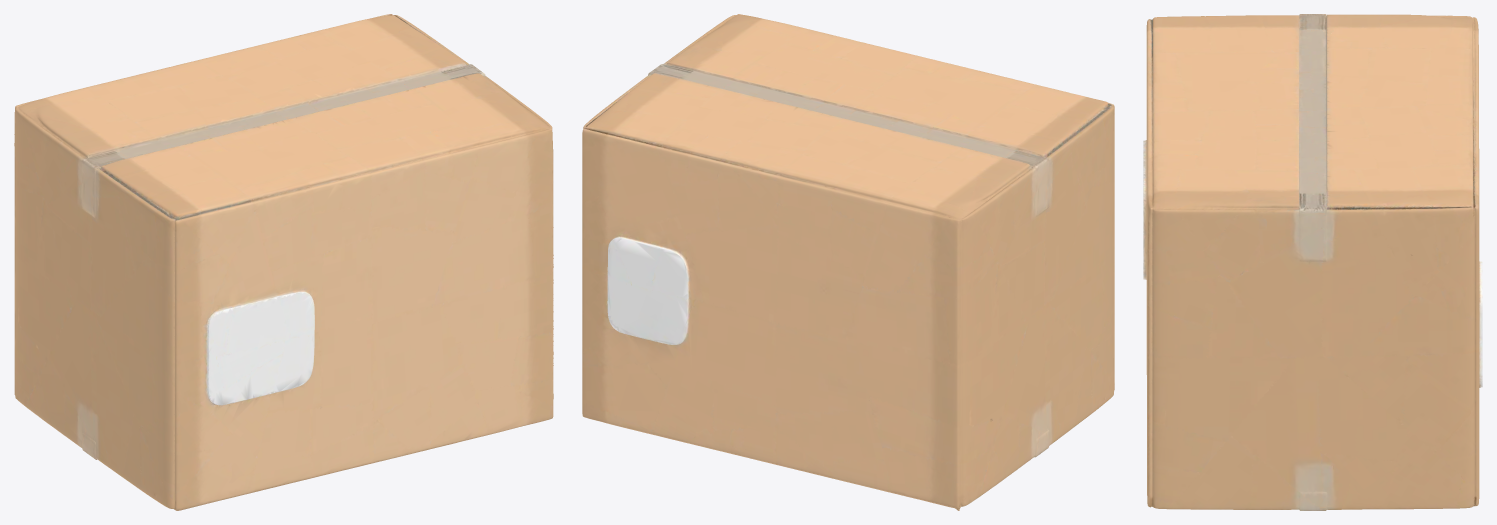
File: Meshy_AI_Brown_Cardboard_Box_0602070105_texture.glb
The picture shows the model from 3 angles, left to right: view 1: azimuth 30°, elevation 25°; view 2: azimuth 150°, elevation 25°; view 3: azimuth 270°, elevation 25°; orthographic projection. The views are drawn at different scales.
Size of the model in its own units: 1.9 by 1.38 by 1.38.
1 material, 1 textured.
